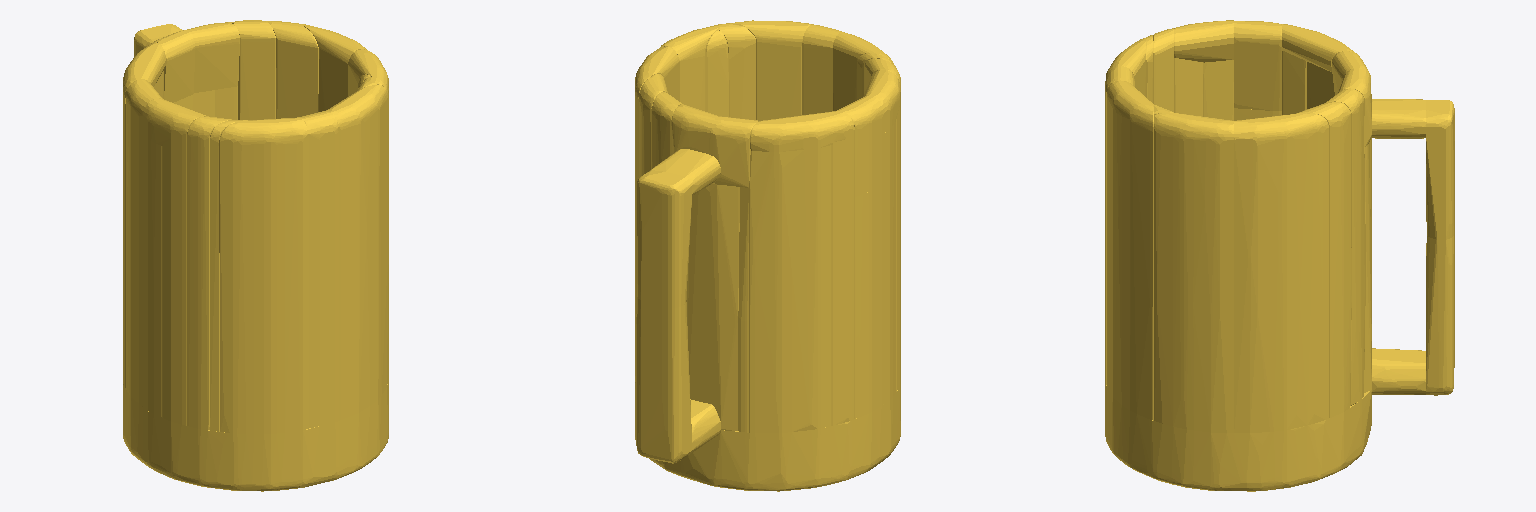
URDF robot description (895.urdf):
<?xml version="1.0" ?>
<robot name="895.urdf">
	<link name="baseLink">
		<inertial>
			<origin rpy="0 0 0" xyz="0 0 0"/>
				<mass value="0.1"/>
				<inertia ixx="6e-5" ixy="0" ixz="0" iyy="6e-5" iyz="0" izz="6e-5"/>
		</inertial>
		<visual>
			<origin rpy="0 0 0" xyz="0 0 0"/>
			<geometry>
				<mesh filename="46_decom_wt.obj" scale="0.97 0.97 1.12"/>
			</geometry>
			<material name="yellow">
				<color rgba="0.98 0.84 0.35 1"/>
			</material>
		</visual>
		<collision>
			<origin rpy="0 0 0" xyz="0 0 0"/>
			<geometry>
				<mesh filename="46_decom_wt.obj" scale="0.97 0.97 1.12"/>
			</geometry>
		</collision>
	</link>
</robot>

--- Facts derived from the render (not from the file) ---
Views: 3 orthographic renders of the robot side by side, from view 1: azimuth 30°, elevation 25°; view 2: azimuth 150°, elevation 25°; view 3: azimuth 270°, elevation 25°.
Robot: 895.urdf — 1 links, 0 joints (none); root link baseLink; default pose: all joints at 0.
Links seen in each view (by area): view 1: baseLink; view 2: baseLink; view 3: baseLink.
Link boxes in pixels (left/top/right/bottom): baseLink: left=123, top=20, right=388, bottom=491; baseLink: left=635, top=20, right=900, bottom=491; baseLink: left=1105, top=20, right=1454, bottom=491.
Size in the robot's own frame: 0.1006 by 0.132 by 0.1525 metres.
Meshes: 1 distinct files referenced, 1 mesh visuals loaded (1 OBJ).